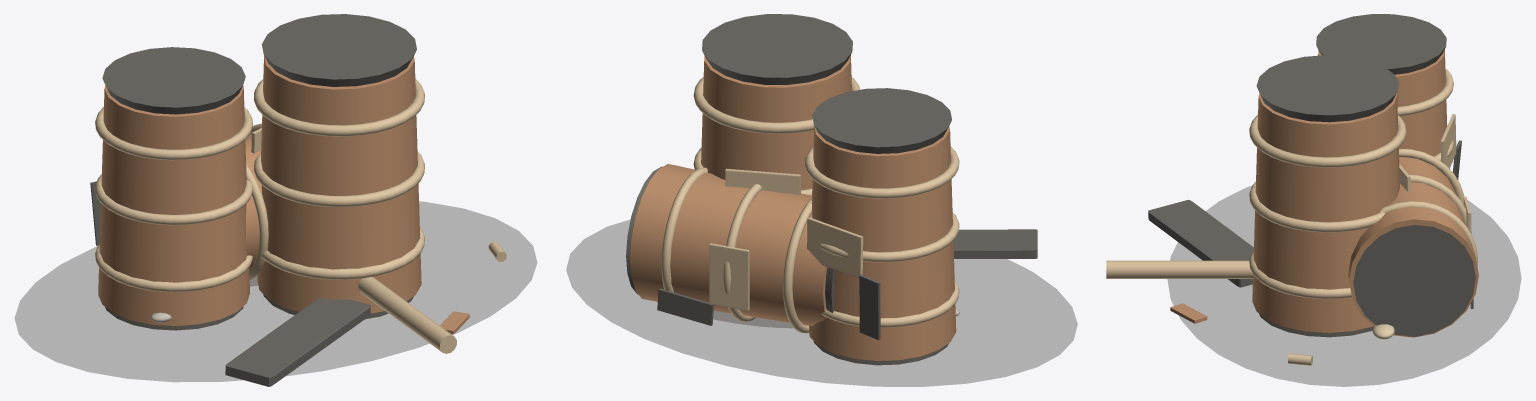
File: barrel_cluster.glb
3 renders of one model, left to right at view 1: azimuth 30°, elevation 25°; view 2: azimuth 150°, elevation 25°; view 3: azimuth 270°, elevation 25°, orthographic. The views are drawn at different scales.
Visible parts, largest first — view 1: cluster_barrel_dented_body (×3), painted_contact_shadow, cluster_barrel_dark_lid_top (×2), loose_flat_scrap, cluster_barrel_raised_rib_2 (×3), cluster_barrel_raised_rib_1 (×2), cluster_barrel_raised_rib_0 (×2), loose_pipe, cluster_barrel_dark_lid_bottom; view 2: cluster_barrel_dented_body (×3), painted_contact_shadow, cluster_barrel_dark_lid_top (×2), cluster_barrel_scraped_label_plate (×3), cluster_barrel_raised_rib_2 (×3), cluster_barrel_oil_stain (×2), cluster_barrel_raised_rib_0 (×2), loose_flat_scrap, cluster_barrel_raised_rib_1 (×2), cluster_barrel_dark_lid_bottom (×2), irregular_oil_stain_ground_detail; view 3: cluster_barrel_dented_body (×3), painted_contact_shadow, cluster_barrel_dark_lid_top (×2), cluster_barrel_dark_lid_bottom (×2), loose_flat_scrap, cluster_barrel_raised_rib_2 (×3), loose_pipe, cluster_barrel_raised_rib_1 (×2), cluster_barrel_raised_rib_0 (×2), cluster_barrel_scraped_label_plate, loose_scrap_flake_2.
Part boxes in pixels (x1,y1,x2,y2): cluster_barrel_dented_body (×3): (98,55,421,325); painted_contact_shadow: (15,201,536,381); cluster_barrel_dark_lid_top (×2): (102,14,416,114); loose_flat_scrap: (225,298,370,386); cluster_barrel_raised_rib_2 (×3): (95,78,424,280); cluster_barrel_raised_rib_1 (×2): (95,152,424,225); cluster_barrel_raised_rib_0 (×2): (95,227,424,292); loose_pipe: (358,277,456,353); cluster_barrel_dark_lid_bottom: (105,306,243,330); cluster_barrel_dented_body (×3): (630,55,956,360); painted_contact_shadow: (566,220,1077,386); cluster_barrel_dark_lid_top (×2): (702,14,951,153); cluster_barrel_scraped_label_plate (×3): (709,168,863,310); cluster_barrel_raised_rib_2 (×3): (693,77,959,333); cluster_barrel_oil_stain (×2): (657,274,880,340); cluster_barrel_raised_rib_0 (×2): (661,167,959,327); loose_flat_scrap: (953,229,1037,258); cluster_barrel_raised_rib_1 (×2): (723,184,959,321); cluster_barrel_dark_lid_bottom (×2): (626,166,948,365); irregular_oil_stain_ground_detail: (713,311,792,327); cluster_barrel_dented_body (×3): (1252,49,1478,337); painted_contact_shadow: (1167,186,1521,386); cluster_barrel_dark_lid_top (×2): (1256,14,1446,122); cluster_barrel_dark_lid_bottom (×2): (1259,225,1475,337); loose_flat_scrap: (1148,199,1253,287); cluster_barrel_raised_rib_2 (×3): (1249,68,1464,204); loose_pipe: (1106,260,1252,278); cluster_barrel_raised_rib_1 (×2): (1249,174,1471,233); cluster_barrel_raised_rib_0 (×2): (1249,201,1477,298); cluster_barrel_scraped_label_plate: (1440,114,1456,168); loose_scrap_flake_2: (1170,303,1207,323).
Bounding box in the file's own units: 2.5 × 1.19 × 2.01.
